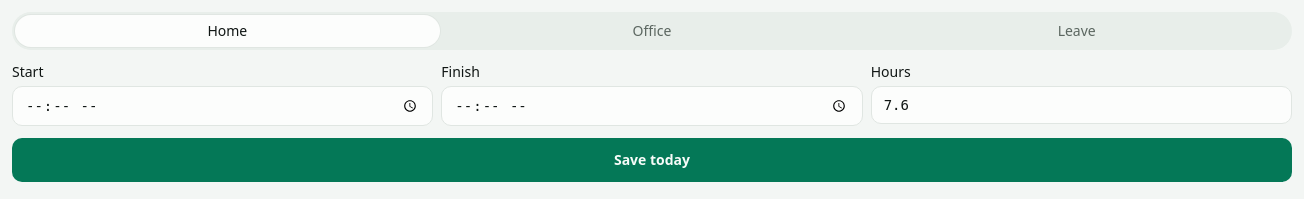
it: DayEditor › times › fills the finish and the hours from a typed start
Type "08:30" into the time field labelled "Start".
click(223, 106); type("08:30")  # box [12,86,433,126]
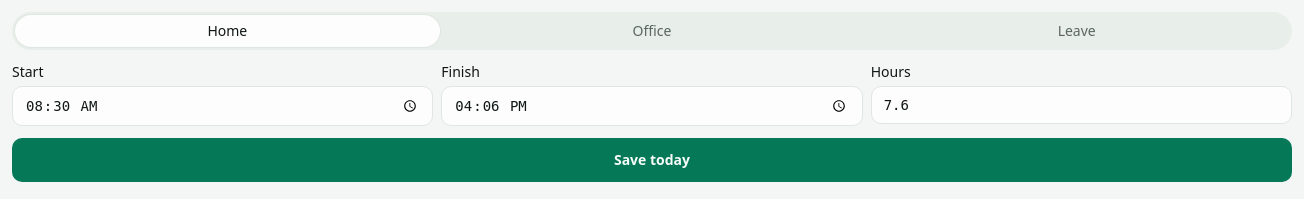
Expected: the field labelled "Hours" holds "7.6", [871,86,1292,124]
Expected: the time field labelled "Finish" holds "16:06", [441,86,863,126]
